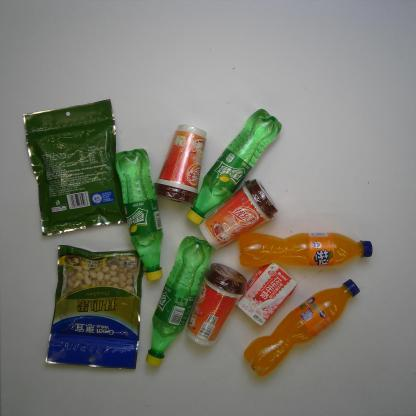Dried Fruit: (22, 98, 127, 238), (44, 243, 144, 371)
Drink: (242, 278, 361, 379), (186, 107, 283, 226), (145, 235, 213, 370), (114, 148, 165, 283), (238, 231, 374, 270)
Instant Drink: (198, 178, 280, 252), (185, 261, 248, 349), (153, 123, 208, 206)
Milk: (235, 261, 299, 327)
